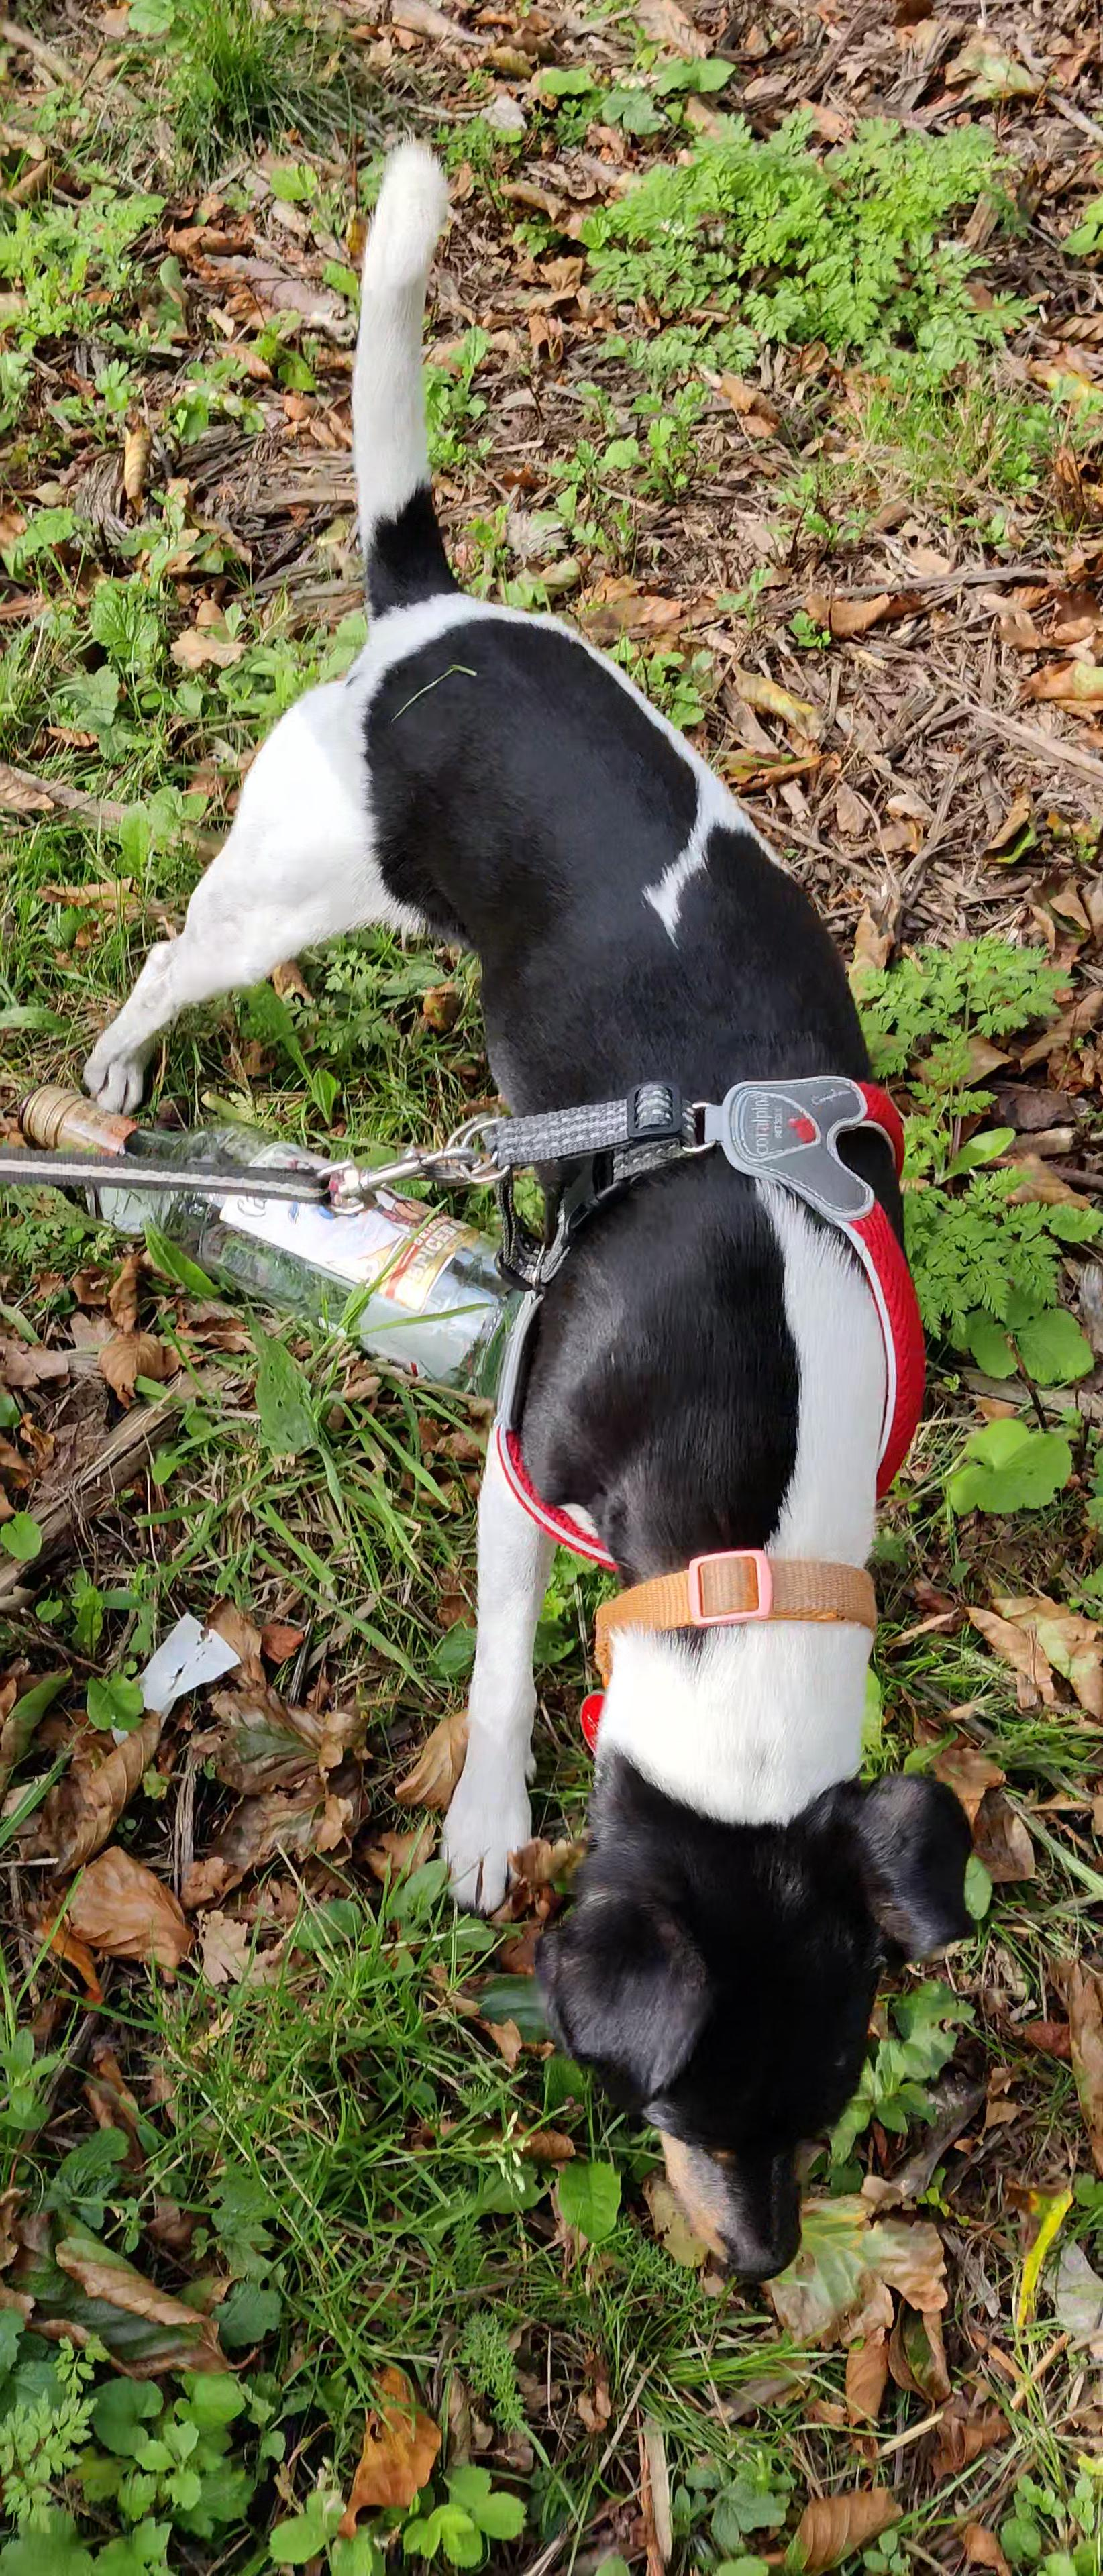Dog: (43, 99, 986, 2323)
